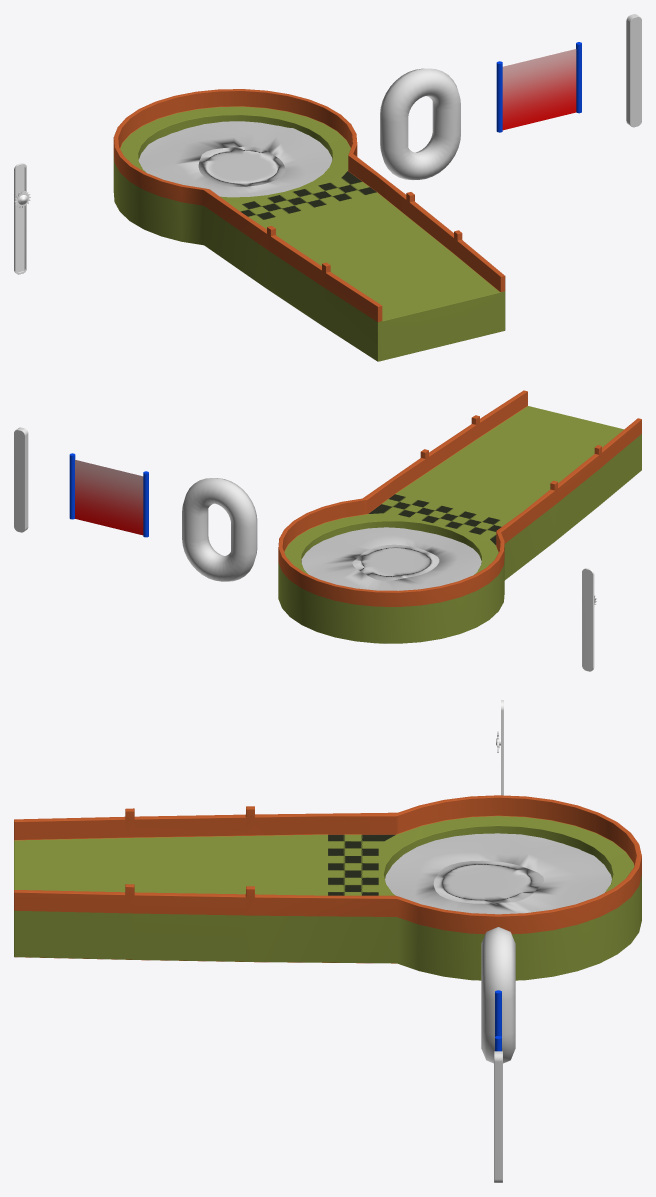
Rendered from Gavrilyuk_models.fbx.
3 views of the same model, one above another, from view 1: azimuth 30°, elevation 25°; view 2: azimuth 150°, elevation 25°; view 3: azimuth 270°, elevation 25° (orthographic). The views are drawn at different scales.
Visible parts, largest first — view 1: Finish, Chain, Barrier, Cube, Saw, Barrier.001; view 2: Finish, Chain, Barrier, Cube, Saw; view 3: Finish, Chain, Cube.
Part boxes in pixels (bbox=[...]): Finish: bbox=[113, 89, 505, 361]; Chain: bbox=[380, 68, 460, 180]; Barrier: bbox=[502, 49, 576, 130]; Cube: bbox=[626, 14, 641, 127]; Saw: bbox=[14, 163, 26, 274]; Barrier.001: bbox=[496, 61, 502, 132]; Finish: bbox=[278, 390, 641, 643]; Chain: bbox=[182, 478, 257, 581]; Barrier: bbox=[75, 460, 143, 535]; Cube: bbox=[14, 427, 28, 532]; Saw: bbox=[582, 568, 594, 671]; Finish: bbox=[14, 795, 641, 980]; Chain: bbox=[481, 927, 515, 1063]; Cube: bbox=[494, 1051, 502, 1182].
Bounding box in the file's own units: 2368 × 402 × 1751.
